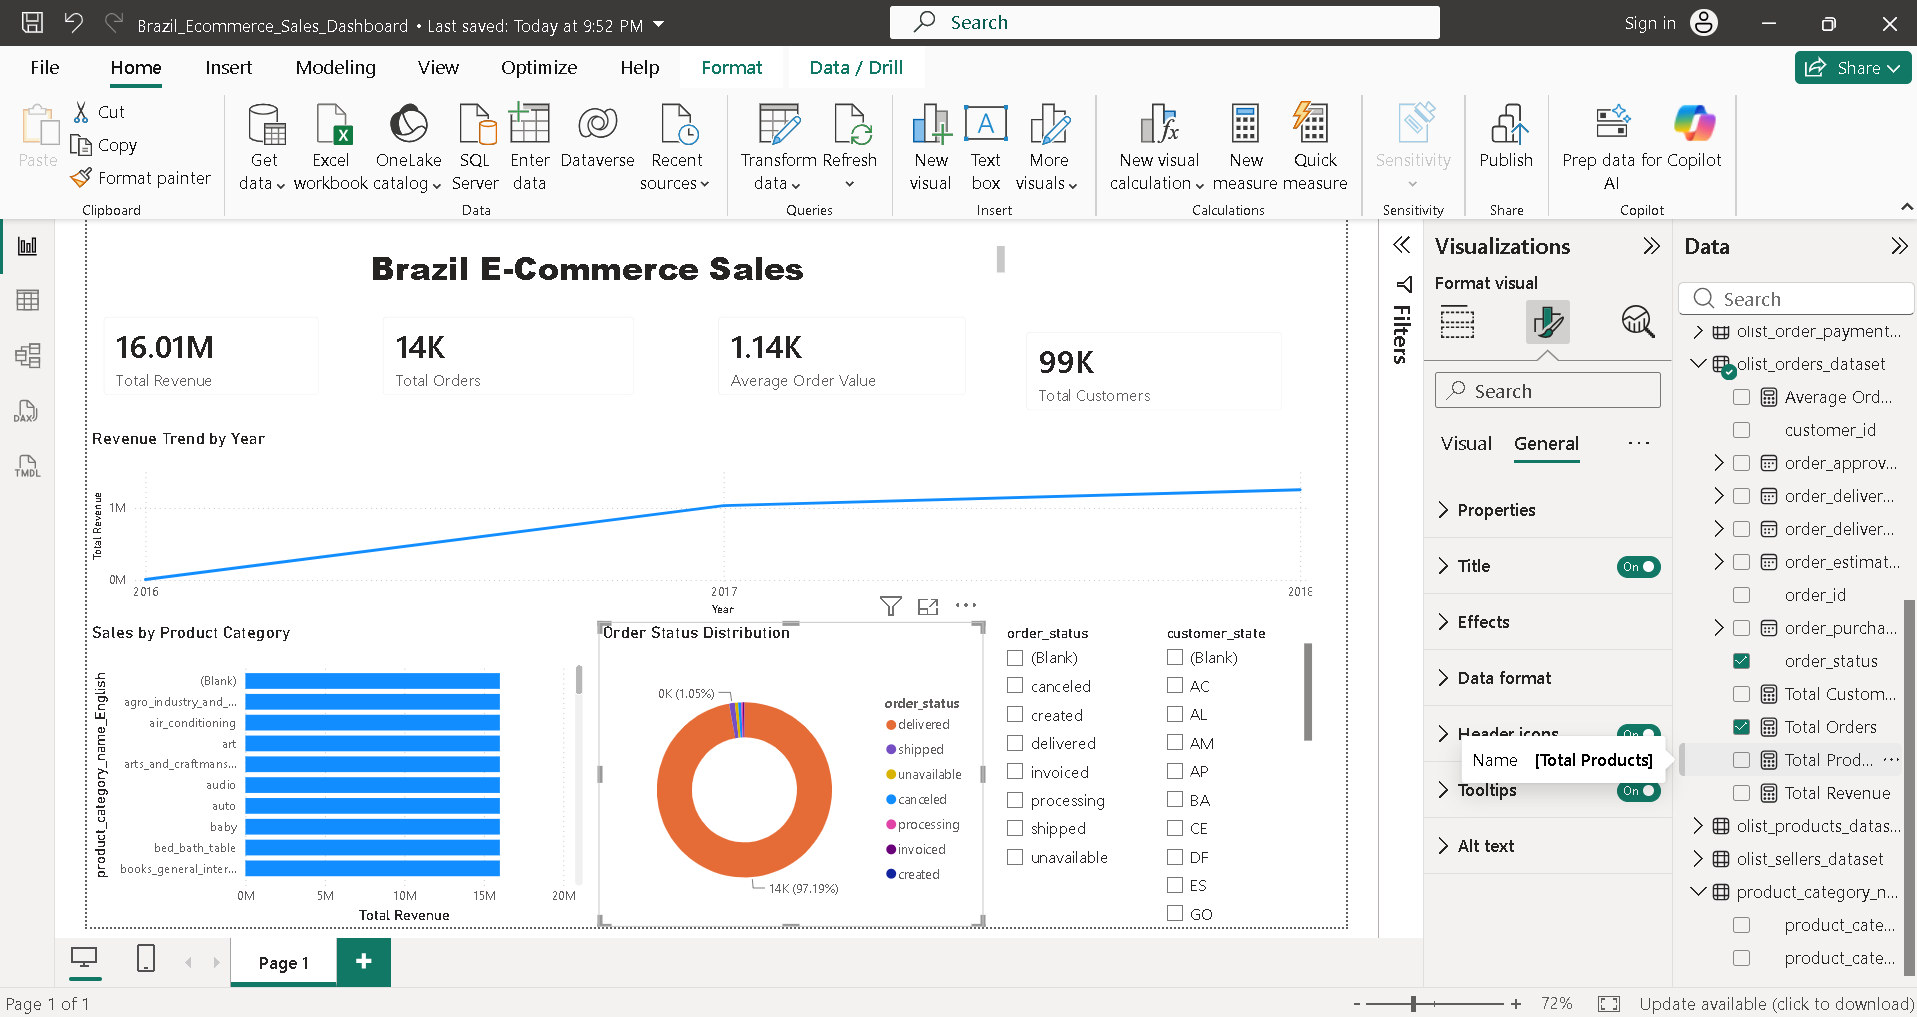

What the dashboard file says about the page in this screenshot:
{"tool":"powerbi","page":{"name":"Page 1","canvas":[1280,720],"ordinal":0},"visuals":[{"type":"cardVisual","fields":{"Data":["olist_orders_dataset.Total Revenue"]},"box":[0,82.2,253,114.4],"z":0},{"type":"cardVisual","fields":{"Data":["olist_orders_dataset.Total Orders"]},"box":[283.7,82.2,290.1,114.4],"z":1000},{"type":"cardVisual","fields":{"Data":["olist_orders_dataset.Total Customers"]},"box":[938,98.3,294.9,114.4],"z":2000},{"type":"cardVisual","fields":{"Data":["olist_orders_dataset.Average Order Value"]},"box":[625.4,82.2,286.9,114.4],"z":3000},{"type":"lineChart","title":"Revenue Trend by Year","fields":{"Category":["olist_orders_dataset.order_purchase_timestamp.Variation.Date Hierarchy.Year","olist_orders_dataset.order_purchase_timestamp.Variation.Date Hierarchy.Month"],"Y":["olist_orders_dataset.Total Revenue"]},"box":[0,212.7,1250.7,195],"z":4000},{"type":"clusteredBarChart","title":"Sales by Product Category","fields":{"Y":["olist_orders_dataset.Total Revenue"],"Category":["product_category_name_translation.product_category_name_English"]},"box":[0,409.4,509.3,311.1],"z":5000},{"type":"donutChart","title":"Order Status Distribution","fields":{"Category":["olist_orders_dataset.order_status"],"Y":["olist_orders_dataset.Total Orders"]},"box":[520.6,409.4,391.7,311.1],"z":6000},{"type":"slicer","fields":{"Values":["olist_orders_dataset.order_status"]},"box":[923.5,407.8,161.2,312.7],"z":7000},{"type":"slicer","fields":{"Values":["olist_customers_dataset.customer_state"]},"box":[1084.7,407.8,166,312.7],"z":8000},{"type":"textbox","box":[283.7,22.6,654.4,59.6],"z":9000}]}

Visuals, with their boxes on the page's 1280x720 design canvas (x1, y1, x2, y2). These are canvas units, not pixel positions in the 1917x1017 screenshot, which may show the page scaled, cropped or inside an application window:
cardVisual - olist_orders_dataset.Total Revenue: region(0, 82, 253, 197)
cardVisual - olist_orders_dataset.Total Orders: region(284, 82, 574, 197)
cardVisual - olist_orders_dataset.Total Customers: region(938, 98, 1233, 213)
cardVisual - olist_orders_dataset.Average Order Value: region(625, 82, 912, 197)
"Revenue Trend by Year" lineChart: region(0, 213, 1251, 408)
"Sales by Product Category" clusteredBarChart: region(0, 409, 509, 720)
"Order Status Distribution" donutChart: region(521, 409, 912, 720)
slicer - olist_orders_dataset.order_status: region(924, 408, 1085, 720)
slicer - olist_customers_dataset.customer_state: region(1085, 408, 1251, 720)
textbox: region(284, 23, 938, 82)
